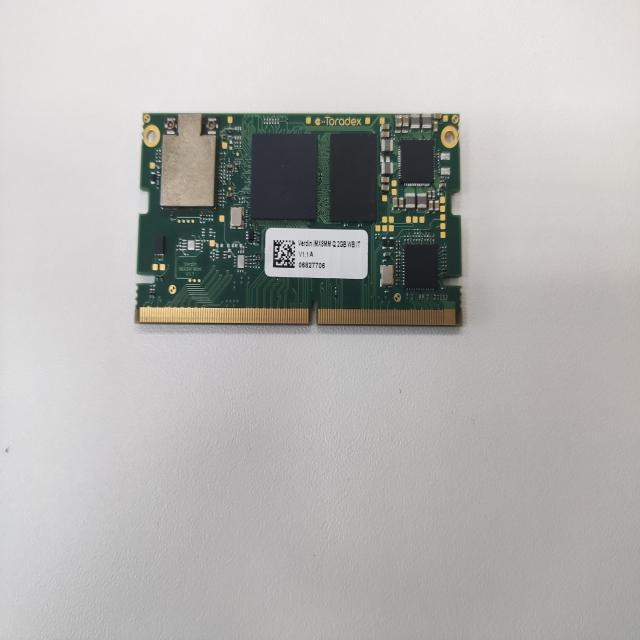som: (127, 97, 482, 349)
